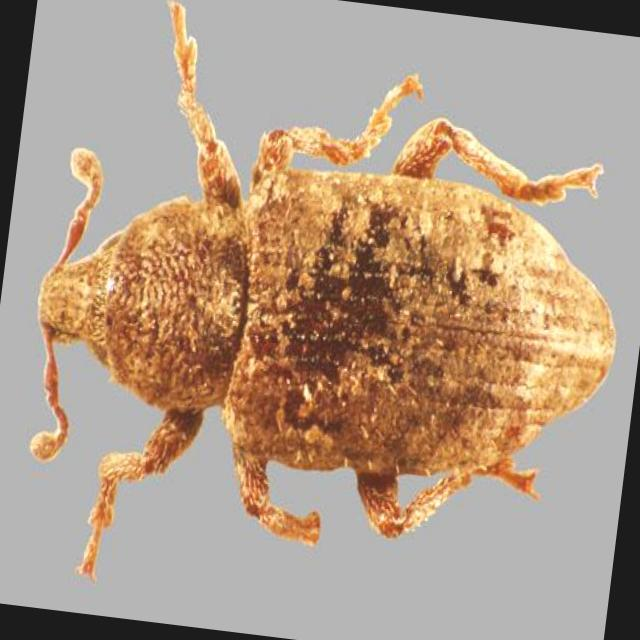ricebug: (31, 2, 614, 577)
